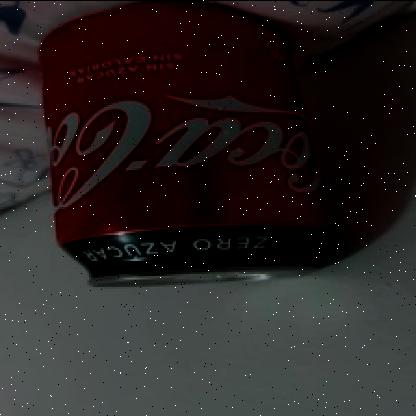Can: (38, 0, 334, 288)
